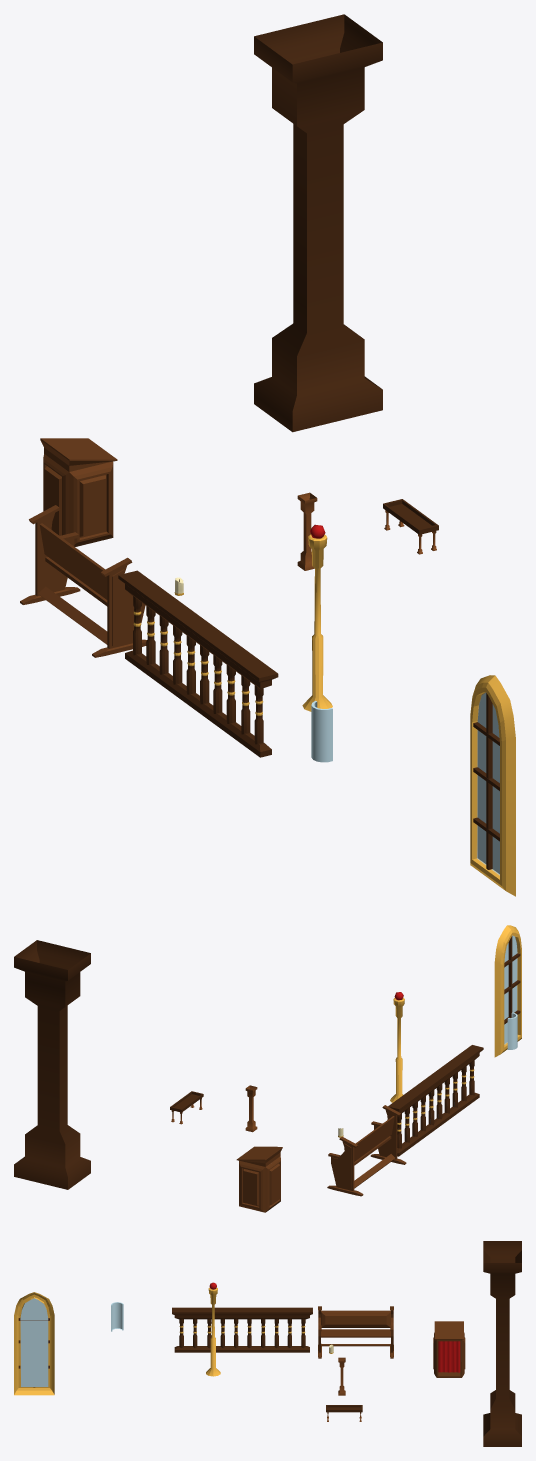
The model's file is Church_Assets01.fbx.
3 renders of one model, top to bottom at view 1: azimuth 30°, elevation 25°; view 2: azimuth 150°, elevation 25°; view 3: azimuth 270°, elevation 25°, orthographic. The views are drawn at different scales.
Visible parts, largest first — view 1: Column, Rails, Window, Chair, Poudium, Ornament, Table_Candle, Wall_Light; view 2: Column, Rails, Window, Chair, Poudium, Ornament, Table_Candle, Wall_Light, Desk_Column; view 3: Column, Window, Rails, Chair, Poudium, Cloth, Ornament, Wall_Light, Table_Candle.
Part boxes in pixels (x1,y1,x2,y2): Column: (254, 14, 382, 432); Rails: (118, 570, 278, 757); Window: (470, 675, 515, 896); Chair: (20, 505, 146, 657); Poudium: (40, 438, 117, 546); Ornament: (302, 524, 332, 711); Table_Candle: (383, 499, 438, 554); Wall_Light: (311, 701, 332, 762); Column: (14, 940, 90, 1189); Rails: (388, 1045, 483, 1156); Window: (494, 925, 521, 1057); Chair: (327, 1105, 406, 1196); Poudium: (236, 1146, 282, 1212); Ornament: (390, 992, 404, 1102); Table_Candle: (170, 1091, 203, 1124); Wall_Light: (507, 1012, 517, 1049); Desk_Column: (245, 1085, 257, 1132); Column: (483, 1241, 521, 1446); Window: (14, 1292, 54, 1395); Rails: (172, 1307, 312, 1352); Chair: (318, 1306, 393, 1358); Poudium: (433, 1321, 465, 1377); Cloth: (438, 1341, 460, 1372); Ornament: (206, 1282, 220, 1376); Wall_Light: (111, 1302, 123, 1331); Table_Candle: (326, 1405, 362, 1421).
Bounding box in the file's own units: 38.5 × 34.81 × 74.81.
